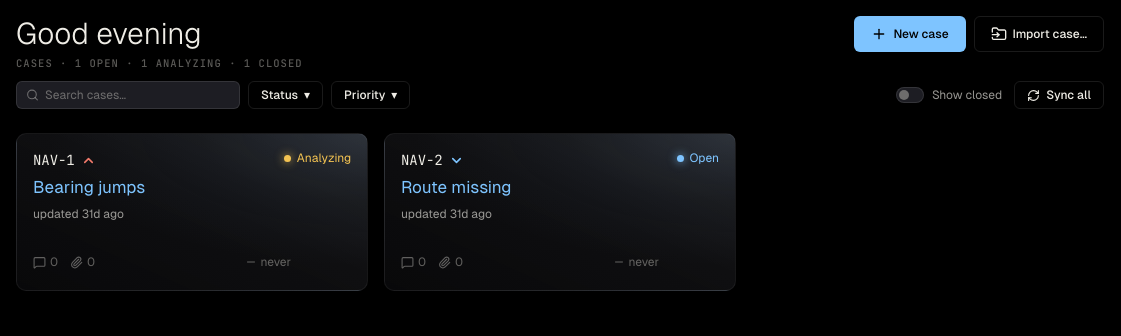
CaseDashboard › an explicit Closed filter overrides the hide-closed default
Expected: the text "Old bug" is not shown
Click the button "Status ▾" at (286, 95), box [248,81,323,109]
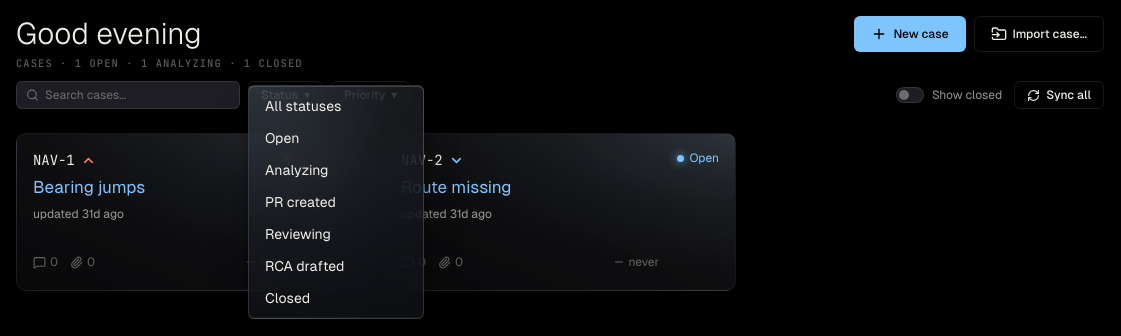
Click the menu item "Closed" at (336, 298), box [253,282,419,314]
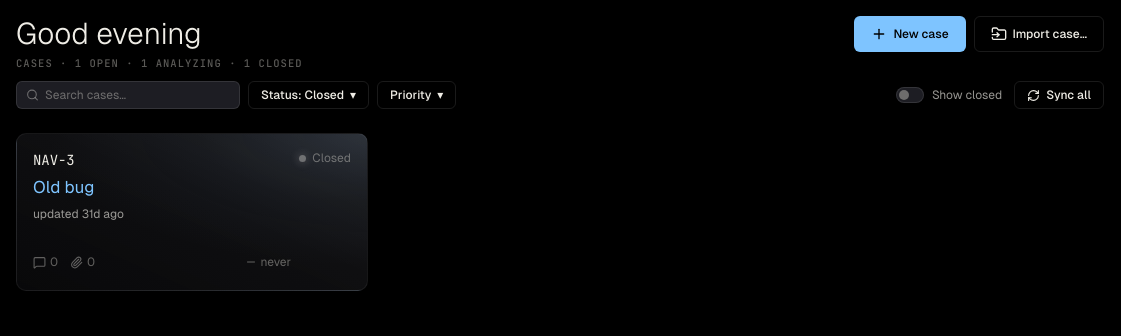
Expected: the heading "Old bug" is shown, [33,177,94,197]
